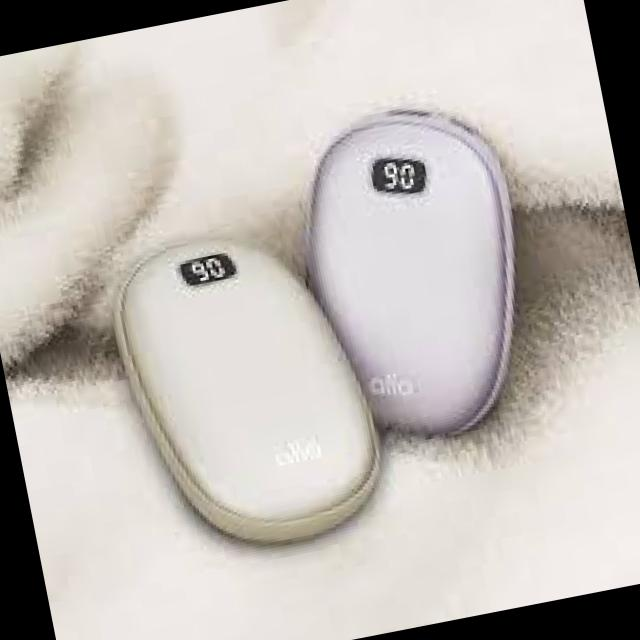power_bank: (96, 208, 407, 578), (281, 82, 561, 465)
